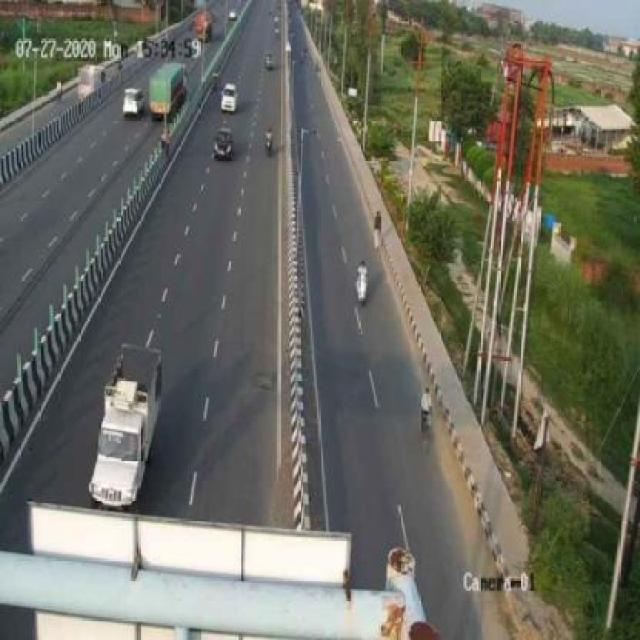car: (83, 338, 177, 508), (209, 124, 240, 164), (119, 83, 146, 119), (217, 77, 241, 115)
